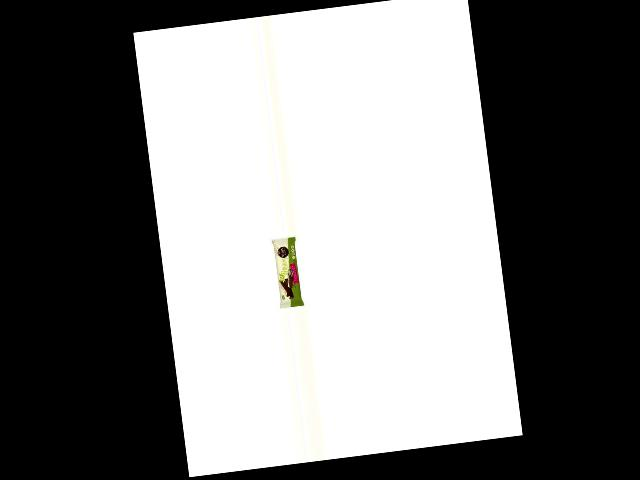chocolate: (269, 236, 306, 310)
